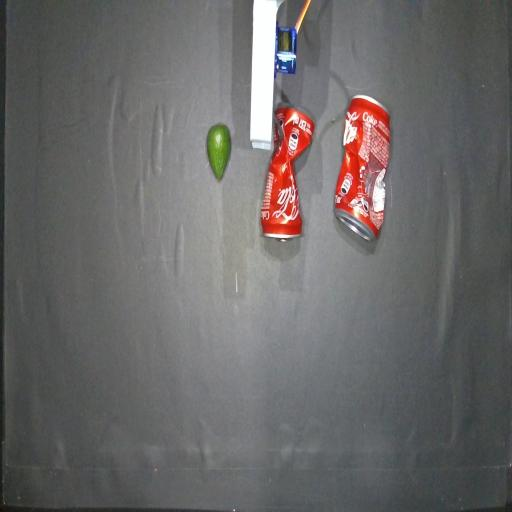higo: (206, 124, 231, 180)
lata_defectuoso: (334, 95, 390, 241), (260, 105, 314, 240)
